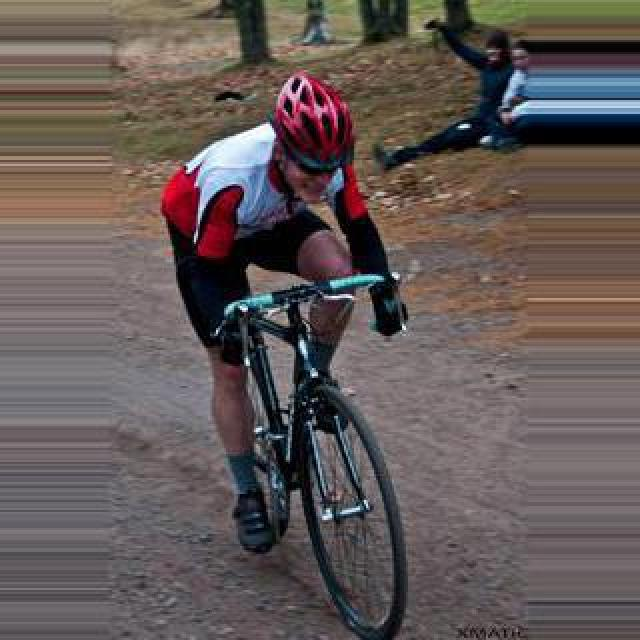MC-Bike: (156, 70, 412, 562), (382, 18, 510, 162)
Person: (216, 260, 406, 624)
